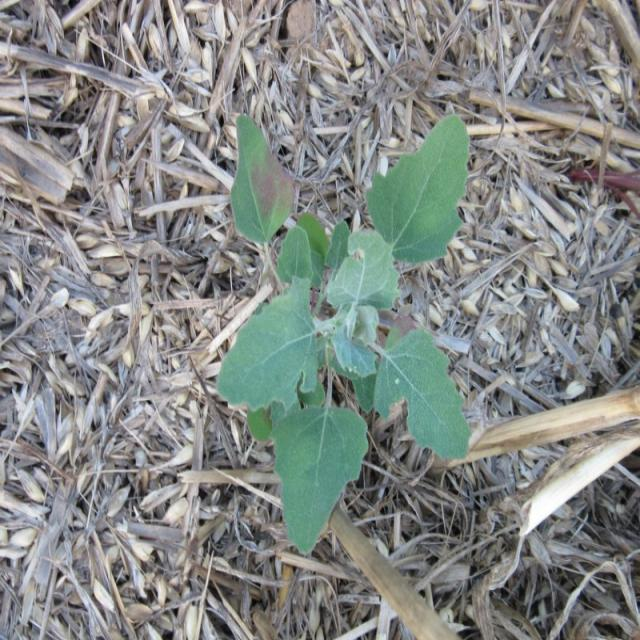ca: (224, 108, 472, 555)
